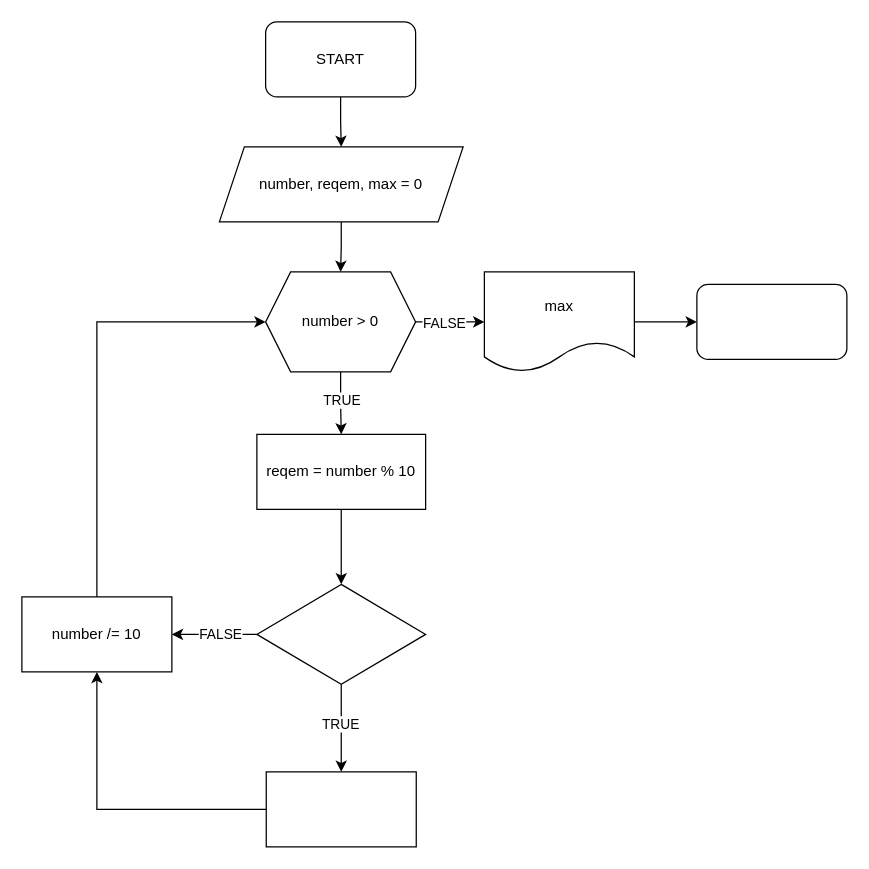
The diagram is 869 pixels wide and 869 high, and some of its shapes have lost their labels. The centre of each missing label's shape, as x and y in pixels:
"END" belongs at [771,321].
"max = reqem" belongs at [340,809].
"reqem > max" belongs at [341,633].
